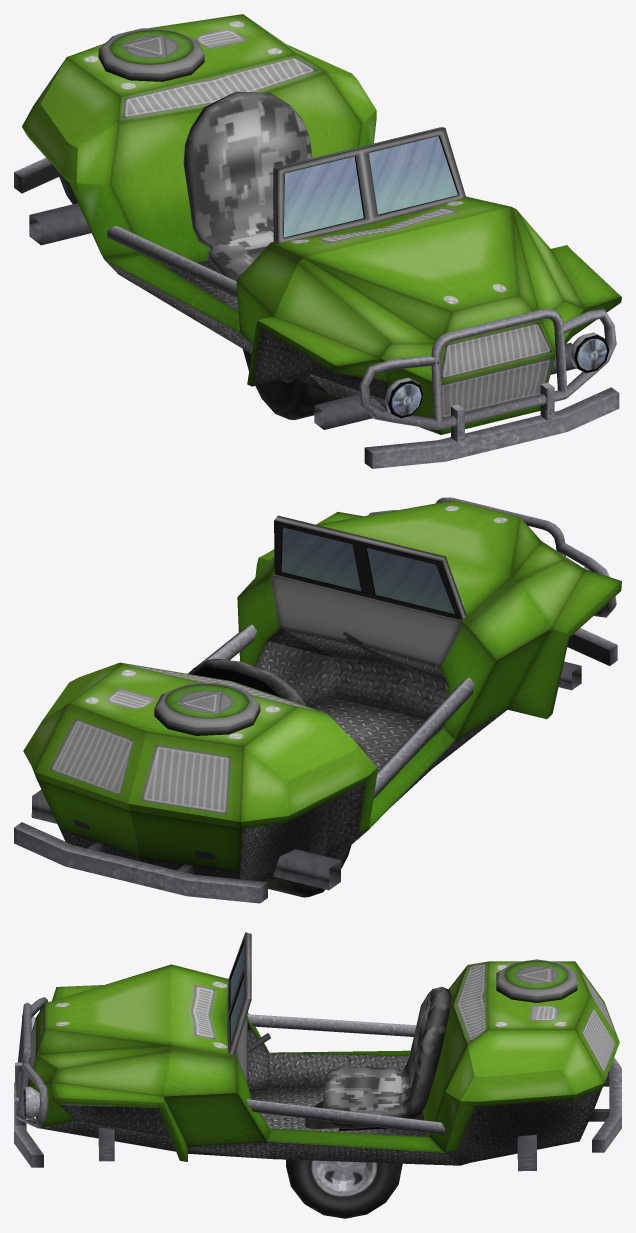
The model's file is Jeep.fbx.
3 renders of one model, top to bottom at view 1: azimuth 30°, elevation 25°; view 2: azimuth 150°, elevation 25°; view 3: azimuth 270°, elevation 25°, orthographic. The views are drawn at different scales.
Visible parts, largest first — view 1: Jeep, Jeep_headlights, Jeep_wheel_L_front, Jeep_wheel_L_back; view 2: Jeep, Jeep_wheel_L_front; view 3: Jeep, Jeep_wheel_L_front, Jeep_wheel_L_back.
Boxes of the visible parts, x1,y1,x2,y2 form: Jeep: (14,14,621,468); Jeep_headlights: (390,337,607,415); Jeep_wheel_L_front: (244,352,340,419); Jeep_wheel_L_back: (242,349,314,419); Jeep: (14,497,621,903); Jeep_wheel_L_front: (260,845,351,897); Jeep: (14,932,621,1171); Jeep_wheel_L_front: (286,1101,400,1218); Jeep_wheel_L_back: (293,1101,402,1218).
Bounding box in the file's own units: 4.36 × 4.13 × 9.25.
